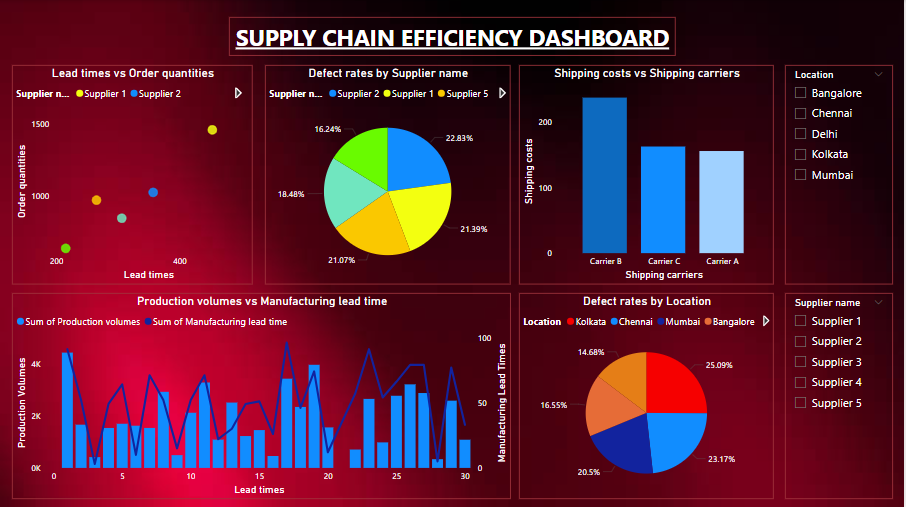

The dashboard page shown, as its layout file describes it:
{"tool":"powerbi","page":{"name":"Supply Chain Efficiency Dashboard","canvas":[1280,720],"ordinal":1},"visuals":[{"type":"scatterChart","title":"Lead times vs Order quantities","fields":{"Y":["Sum(supply_chain_data.Order quantities)"],"Series":["supply_chain_data.Supplier name"],"X":["Sum(supply_chain_data.Lead times)"]},"box":[16.8,92.4,341,310.8],"z":0},{"type":"columnChart","title":"Shipping costs vs Shipping carriers","fields":{"Category":["supply_chain_data.Shipping carriers"],"Y":["Sum(supply_chain_data.Shipping costs)"]},"box":[735.7,92.4,361.2,310.8],"z":1000},{"type":"pieChart","title":"Defect rates by Supplier name","fields":{"Y":["Sum(supply_chain_data.Defect rates)"],"Category":["supply_chain_data.Supplier name"]},"box":[376.3,92.4,347.7,310.8],"z":2000},{"type":"pieChart","title":"Defect rates by Location","fields":{"Y":["Sum(supply_chain_data.Defect rates)"],"Category":["supply_chain_data.Location"]},"box":[735.7,414.9,361.2,292.3],"z":3000},{"type":"lineClusteredColumnComboChart","title":"Production volumes vs Manufacturing lead time","fields":{"Y2":["Sum(supply_chain_data.Manufacturing lead time)"],"Y":["Sum(supply_chain_data.Production volumes)"],"Category":["supply_chain_data.Lead times"]},"box":[16.8,414.9,707.2,292.3],"z":4000},{"type":"slicer","fields":{"Values":["supply_chain_data.Location"]},"box":[1112,92.4,152.9,310.8],"z":5000},{"type":"slicer","fields":{"Values":["supply_chain_data.Supplier name"]},"box":[1112,414.9,152.9,292.3],"z":6000},{"type":"textbox","box":[324.2,23.5,633.3,55.4],"z":7000}]}

Visuals, with their boxes in screenshot pixels (x1, y1, x2, y2), scaled from the page's 1280x720 canvas onto the 906x507 screenshot:
"Lead times vs Order quantities" scatterChart: box(12, 65, 253, 284)
"Shipping costs vs Shipping carriers" columnChart: box(521, 65, 776, 284)
"Defect rates by Supplier name" pieChart: box(266, 65, 512, 284)
"Defect rates by Location" pieChart: box(521, 292, 776, 498)
"Production volumes vs Manufacturing lead time" lineClusteredColumnComboChart: box(12, 292, 512, 498)
slicer - supply_chain_data.Location: box(787, 65, 895, 284)
slicer - supply_chain_data.Supplier name: box(787, 292, 895, 498)
textbox: box(229, 17, 678, 56)
